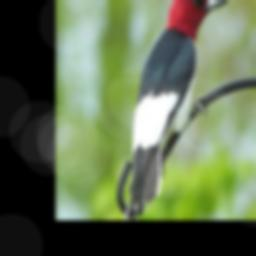Woodpecker: (121, 0, 230, 219)
